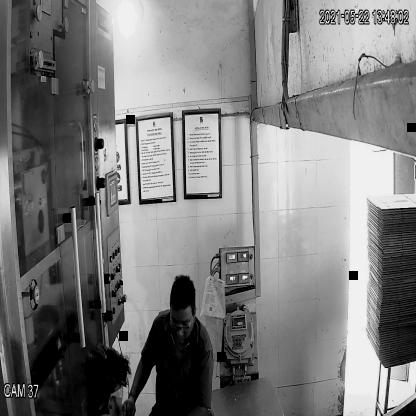goggles: (167, 313, 194, 335)
